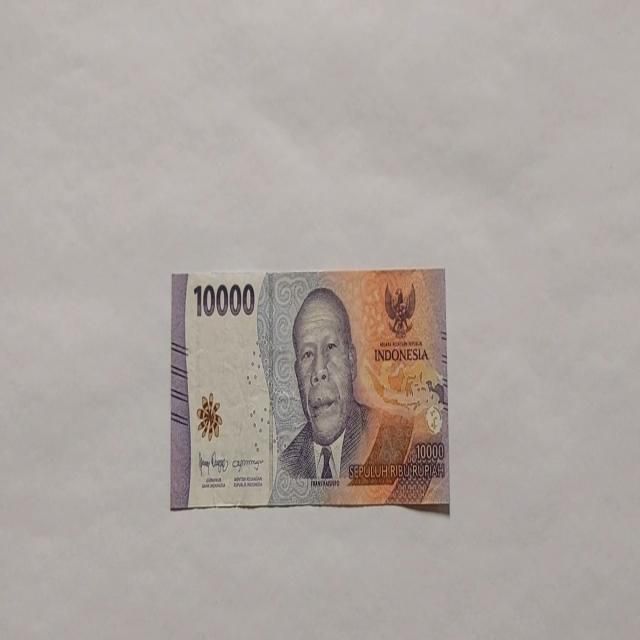sepuluh ribu rupiah: (170, 266, 450, 512), (268, 284, 382, 504)
